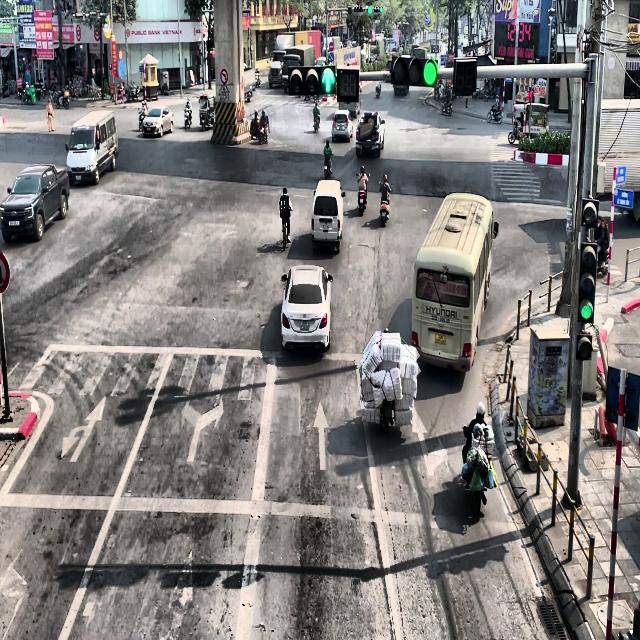BUS: (411, 191, 498, 373)
CAR: (0, 164, 70, 242), (280, 264, 333, 353), (355, 110, 385, 158), (142, 106, 174, 138), (331, 110, 353, 142)
MOTORBIKE: (465, 427, 492, 515), (356, 173, 370, 216), (379, 184, 393, 226), (280, 207, 292, 251), (508, 116, 522, 144), (56, 87, 70, 109), (487, 104, 502, 124), (249, 113, 260, 139), (258, 122, 268, 145), (138, 107, 147, 132), (441, 98, 453, 116), (184, 107, 192, 129), (324, 157, 332, 179), (313, 116, 320, 133), (375, 82, 381, 98), (255, 72, 260, 86)
TRAFFIC_LIGHT: (389, 52, 438, 89), (577, 240, 598, 324), (321, 66, 335, 95), (367, 4, 384, 15), (374, 5, 384, 14)
